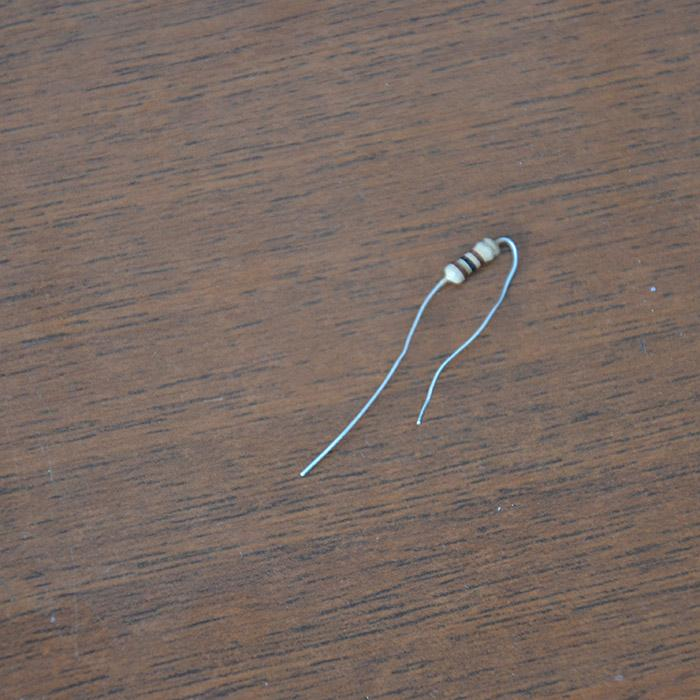resistor: (441, 236, 506, 288)
